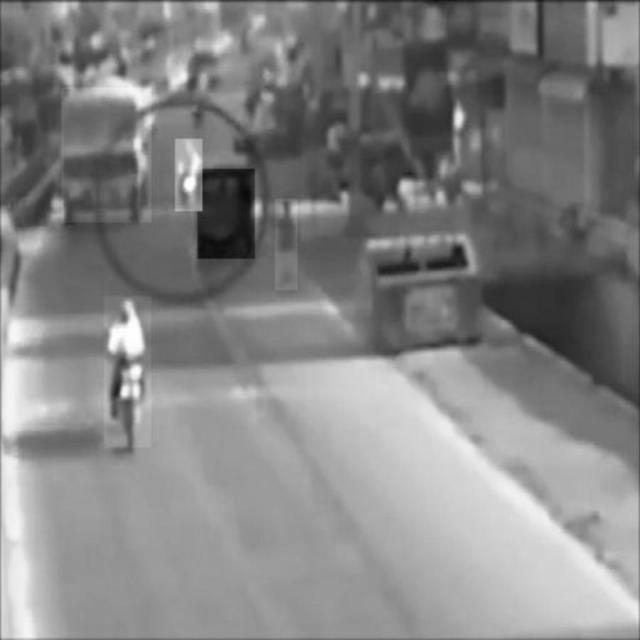person: (276, 199, 298, 290)
vehicle: (61, 88, 151, 222), (104, 297, 151, 448), (198, 169, 255, 259), (175, 139, 202, 211)
